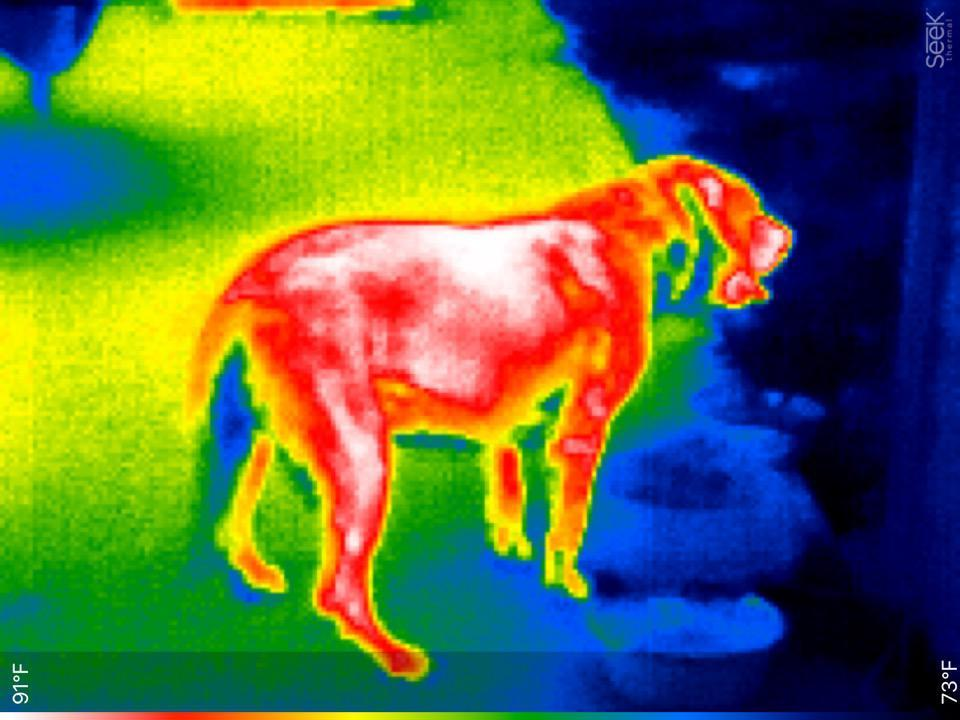dog: (186, 147, 797, 683)
